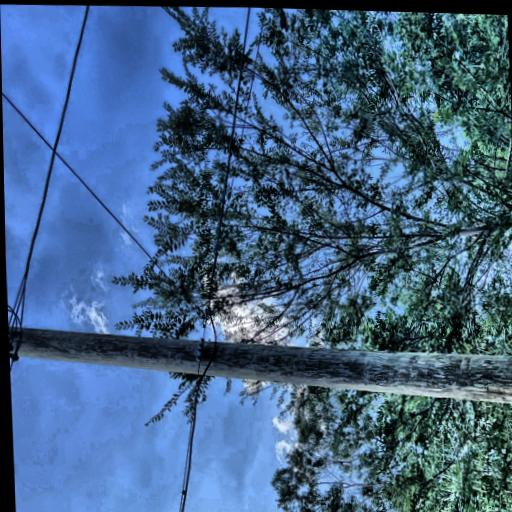pole: (0, 2, 110, 512)
street light: (48, 3, 153, 118)
